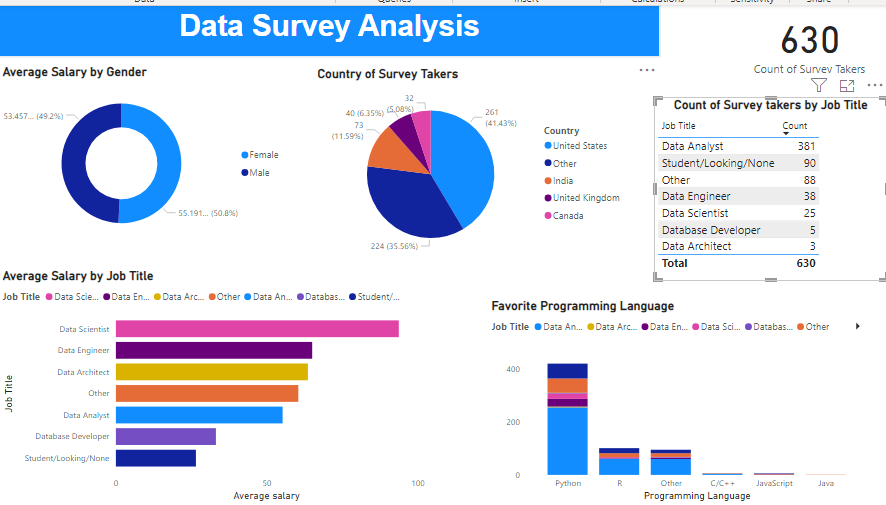

The dashboard page shown, as its layout file describes it:
{"tool":"powerbi","page":{"name":"Page 1","canvas":[1280,720],"ordinal":0},"visuals":[{"type":"barChart","title":"Average Salary by Job Title","fields":{"Category":["Data Professional Survey (2).Q1 - Which Title Best Fits your Current Role?.1"],"Y":["Avg(Data Professional Survey (2).Average Salary)"],"Series":["Data Professional Survey (2).Q1 - Which Title Best Fits your Current Role?.1"]},"box":[0,378.7,617.8,341.3],"z":0},{"type":"card","fields":{"Values":["CountNonNull(Data Professional Survey (2).Unique ID)"]},"box":[1054.1,0,226.1,108],"z":1000},{"type":"tableEx","title":"Count of Survey takers by Job Title","fields":{"Values":["Data Professional Survey (2).Q1 - Which Title Best Fits your Current Role?.1","CountNonNull(Data Professional Survey (2).Q1 - Which Title Best Fits your Current Role?.1)"]},"box":[943.2,132.5,337,265],"z":2000},{"type":"actionButton","box":[0,0,100,40],"z":3000},{"type":"donutChart","title":"Average Salary by Gender ","fields":{"Category":["Data Professional Survey (2).Q9 - Male/Female?"],"Y":["Avg(Data Professional Survey (2).Average Salary)"]},"box":[0,85,417.6,265],"z":4000},{"type":"columnChart","title":"  Favorite Programming Language","fields":{"Category":["Data Professional Survey (2).Q5 - Favorite Programming Language.1"],"Y":["CountNonNull(Data Professional Survey (2).Unique ID)"],"Series":["Data Professional Survey (2).Q1 - Which Title Best Fits your Current Role?.1"]},"box":[704.2,421.9,551.5,298.1],"z":5000},{"type":"pieChart","title":"Country of Survey Takers","fields":{"Category":["Data Professional Survey (2).Q11 - Which Country do you live in?.1"],"Y":["CountNonNull(Data Professional Survey (2).Unique ID)"]},"box":[453.6,87.8,455,290.9],"z":6000},{"type":"textbox","box":[0,0,951.8,74.9],"z":7000}]}

Visuals, with their boxes on the page's 1280x720 design canvas (x1, y1, x2, y2). These are canvas units, not pixel positions in the 886x505 screenshot, which may show the page scaled, cropped or inside an application window:
"Average Salary by Job Title" barChart: 0:379:618:720
card - CountNonNull(Data Professional Survey (2).Unique ID): 1054:0:1280:108
"Count of Survey takers by Job Title" tableEx: 943:132:1280:398
actionButton: 0:0:100:40
"Average Salary by Gender " donutChart: 0:85:418:350
"  Favorite Programming Language" columnChart: 704:422:1256:720
"Country of Survey Takers" pieChart: 454:88:909:379
textbox: 0:0:952:75
